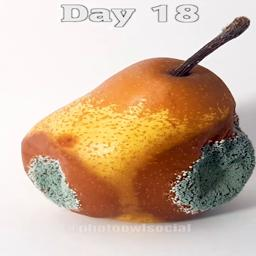Pear Rotten: (10, 5, 253, 217)
